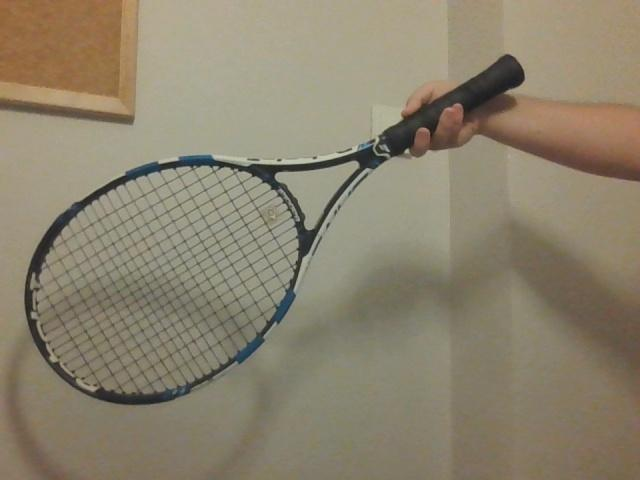Tennis-Racket: (2, 45, 526, 407)
